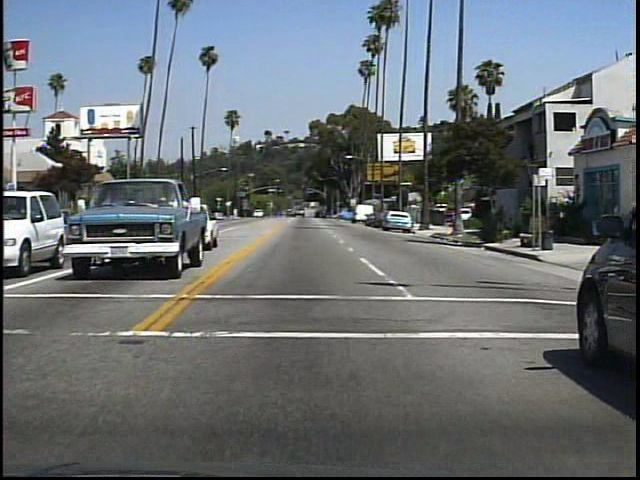person: (495, 199, 518, 248)
